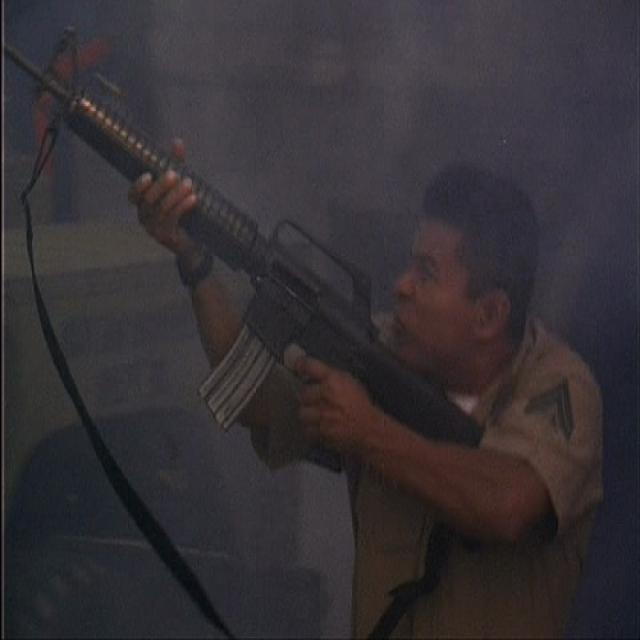rifle: (1, 28, 492, 458)
